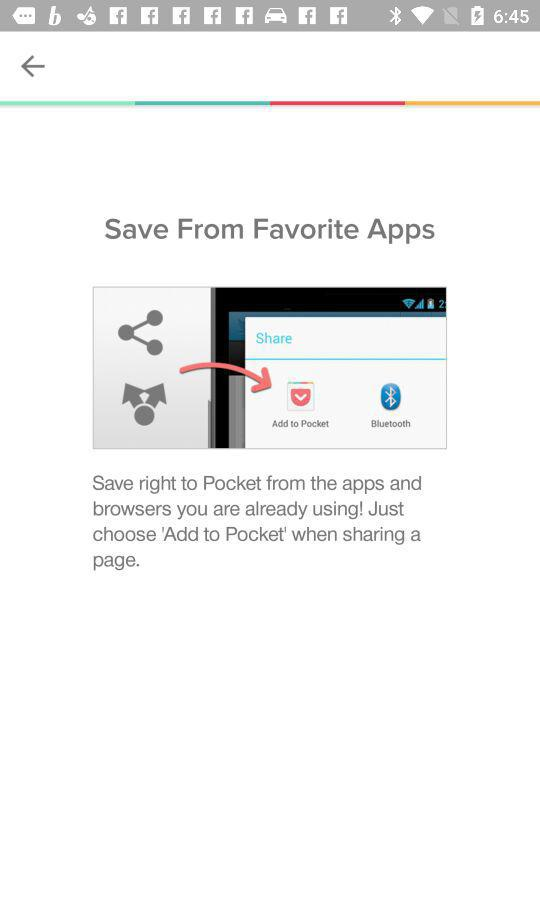Icon: (21, 55, 47, 79)
Image: (92, 286, 448, 450)
Text: (93, 475, 422, 572), (105, 218, 436, 246)
UpperTaskBar: (1, 1, 540, 33)
